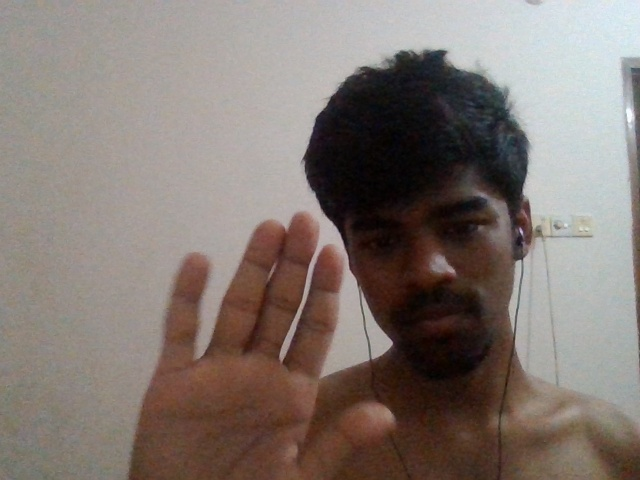Hello: (142, 201, 399, 480)
